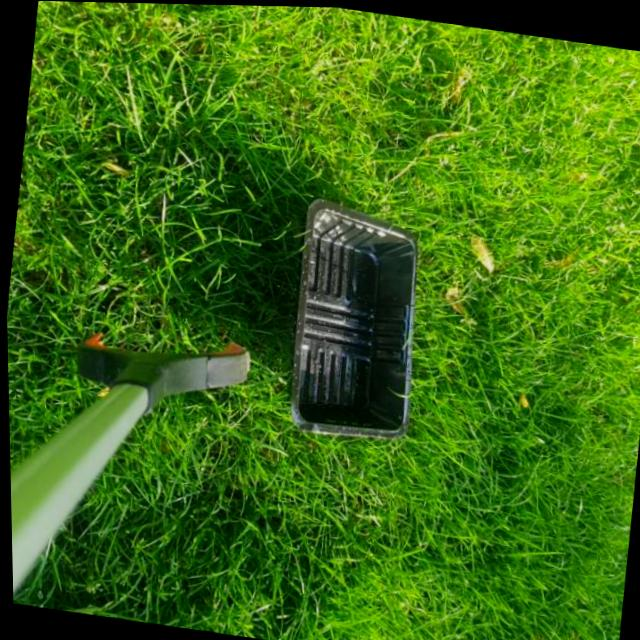Plastic: (271, 193, 434, 446)
